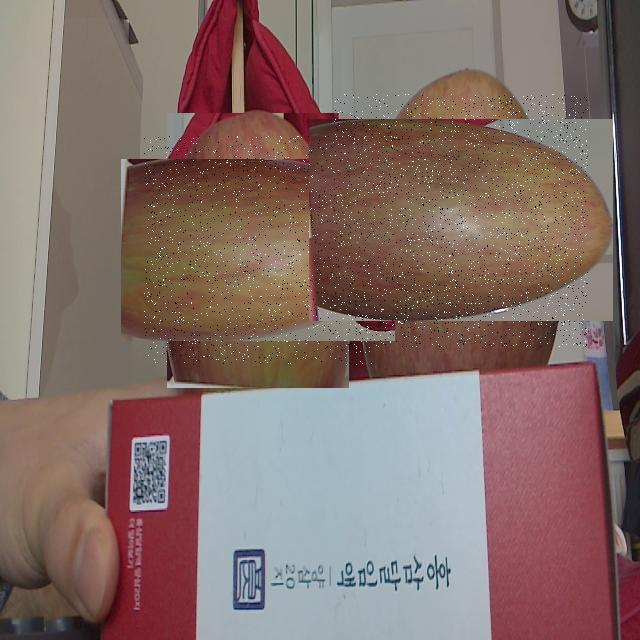apple: (334, 94, 588, 347), (144, 136, 372, 365)
